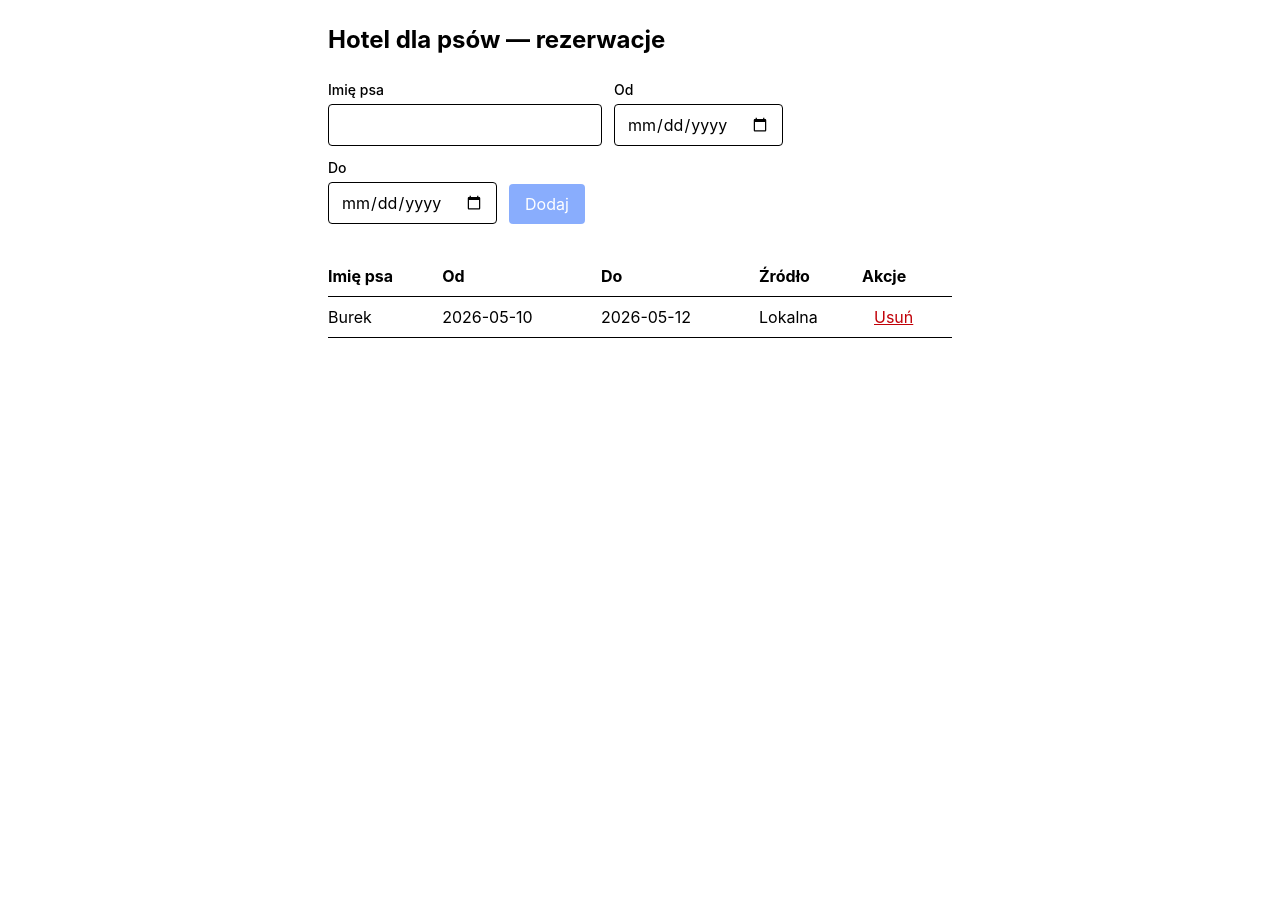
Test: Reservation list › retries deletion from the same dialog after a retryable failure
This screenshot has width=1280, height=900.
Click the button with aria-label "Usuń rezerwację dla Burek" at [894, 317], box [874,305,913,329]
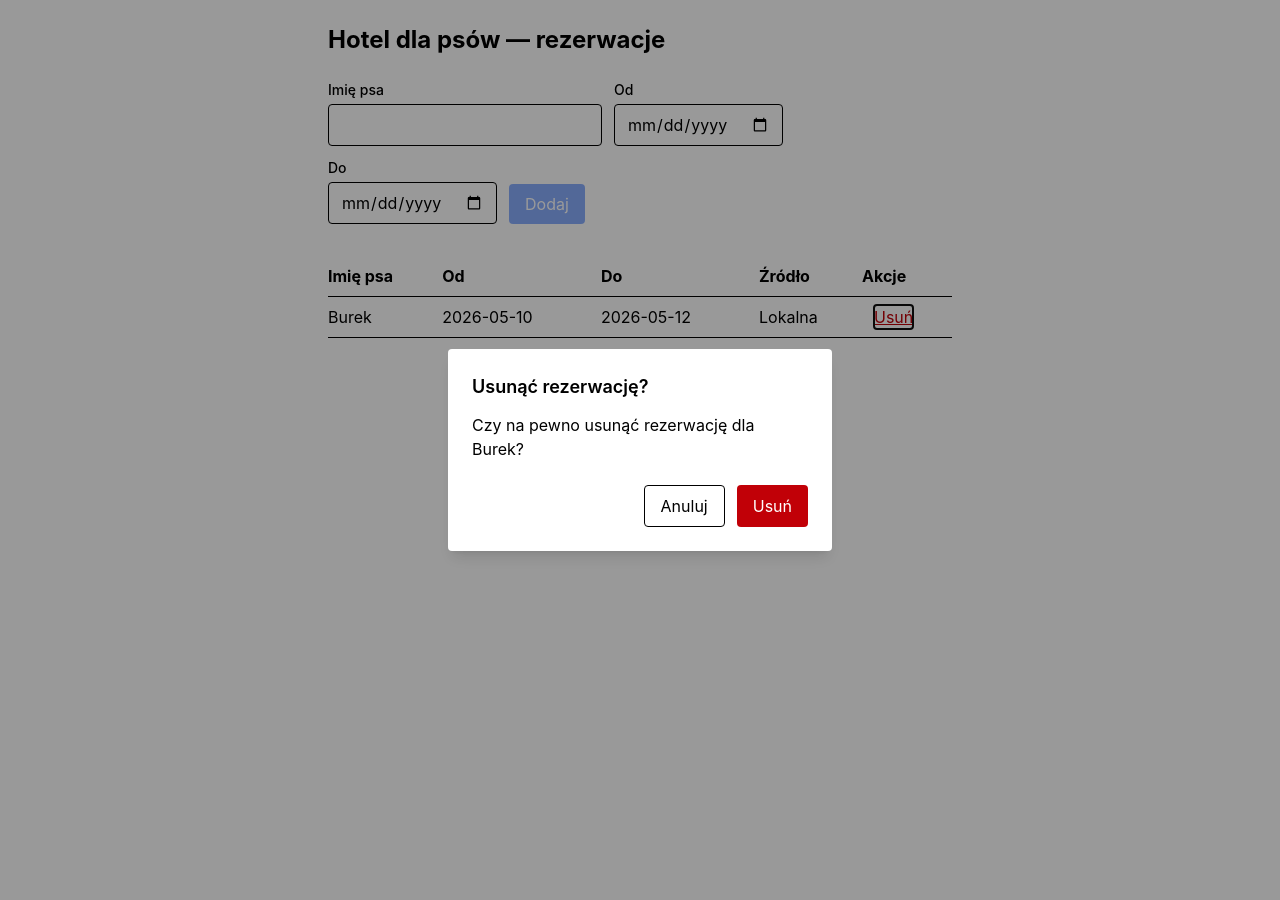
Click the button "Usuń" at [772, 506], box [737,485,808,527]
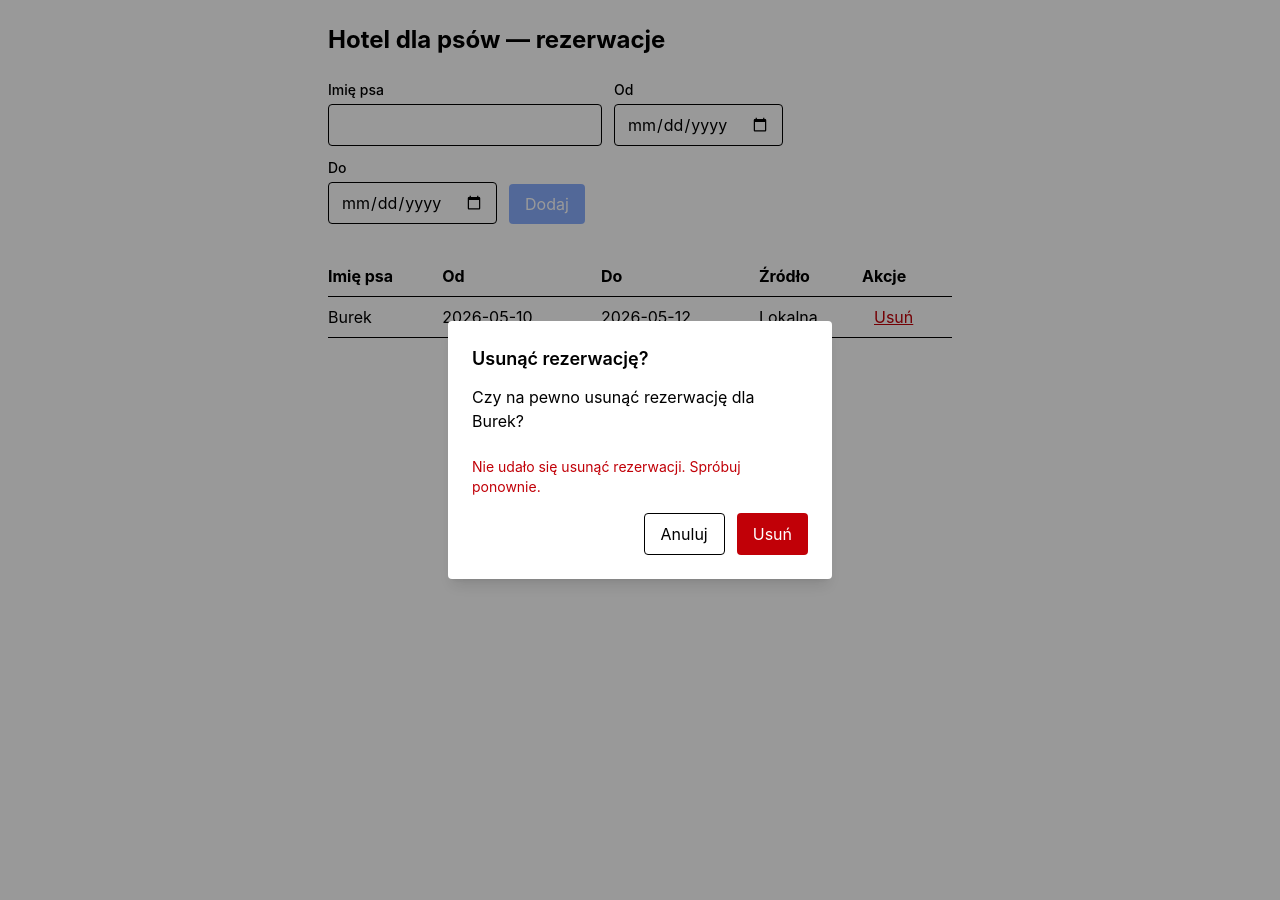
Check: the dialog "Usunąć rezerwację" shows "Nie udało się usunąć rezerwacji. Spróbuj ponownie.", box [472,458,741,495]
Click the button "Usuń" at [772, 534], box [737,513,808,555]
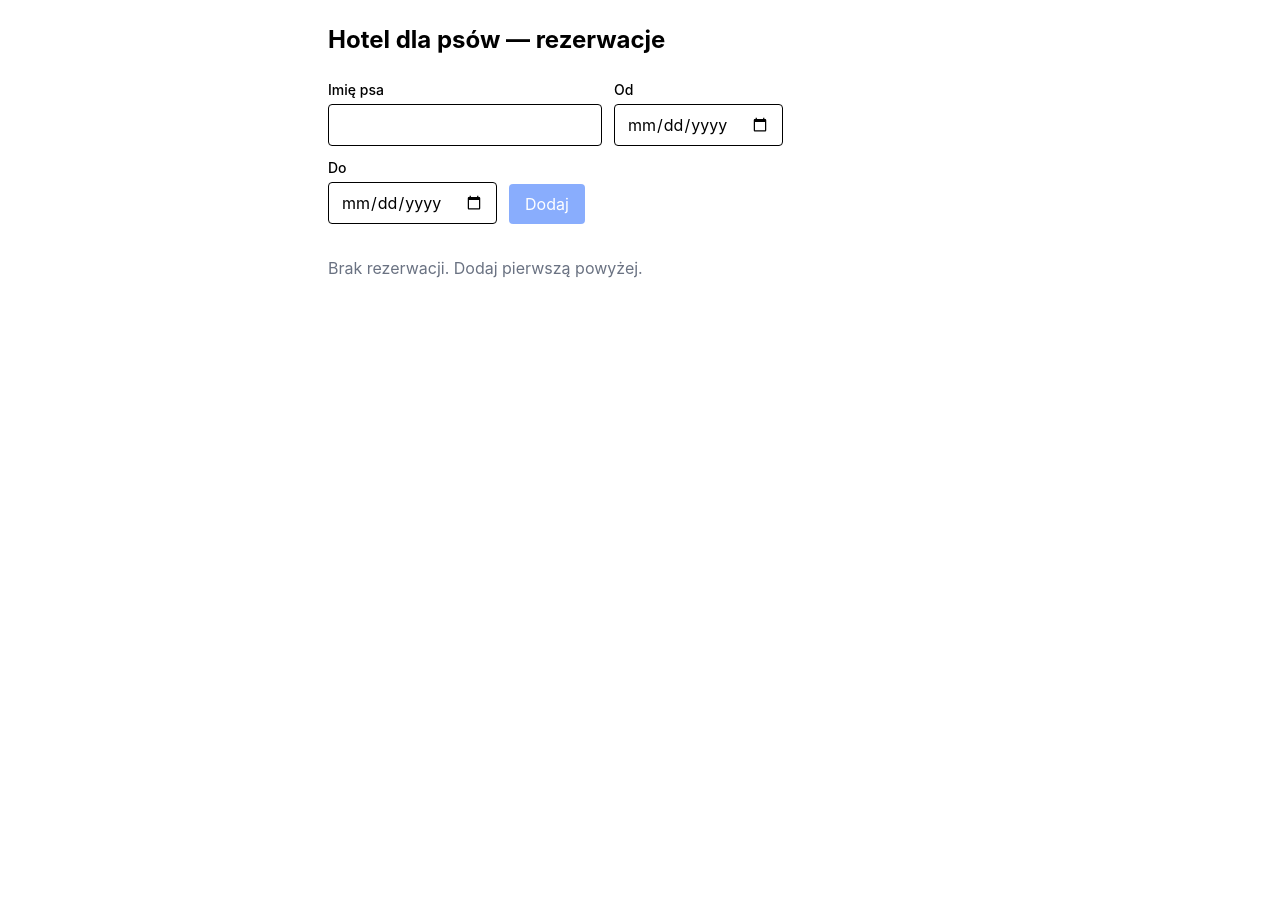
Check: the dialog is gone
Check: the text "Brak rezerwacji. Dodaj pierwszą powyżej." is shown, box [328,258,643,278]
